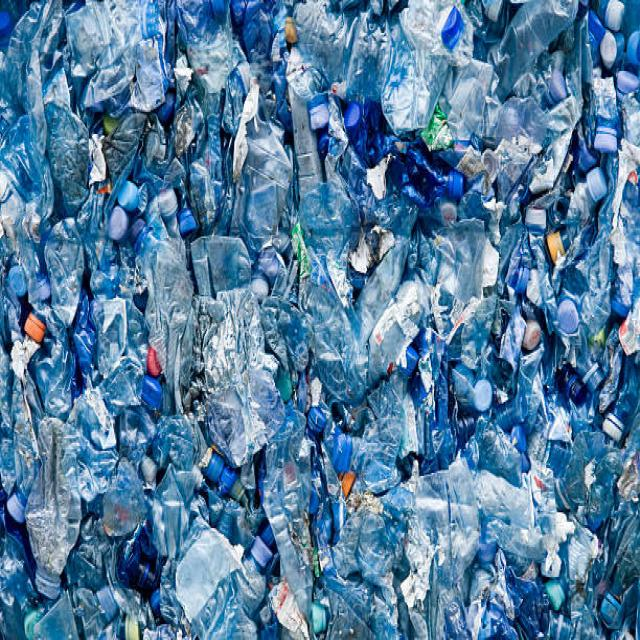plastic: (292, 60, 476, 361), (498, 200, 640, 468), (88, 140, 214, 422), (189, 438, 322, 640)
